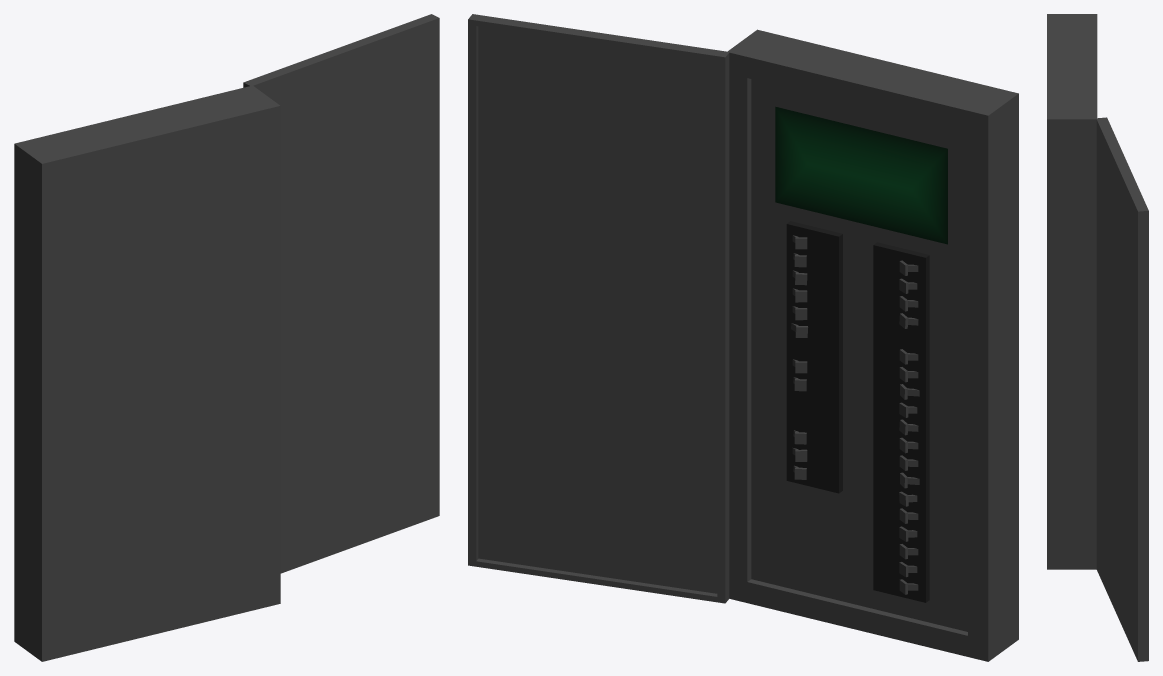
The model's file is Switchbox.fbx.
The picture shows the model from 3 angles, left to right: view 1: azimuth 30°, elevation 25°; view 2: azimuth 150°, elevation 25°; view 3: azimuth 270°, elevation 25°; orthographic projection. The views are drawn at different scales.
Visible parts, largest first — view 1: polySurface12; view 2: polySurface12; view 3: polySurface12.
Boxes of the visible parts, x1,y1,x2,y2 form: polySurface12: (14,14,439,661); polySurface12: (468,14,1018,661); polySurface12: (1047,14,1148,661).
Bounding box in the file's own units: 69.98 × 74.36 × 15.23.
